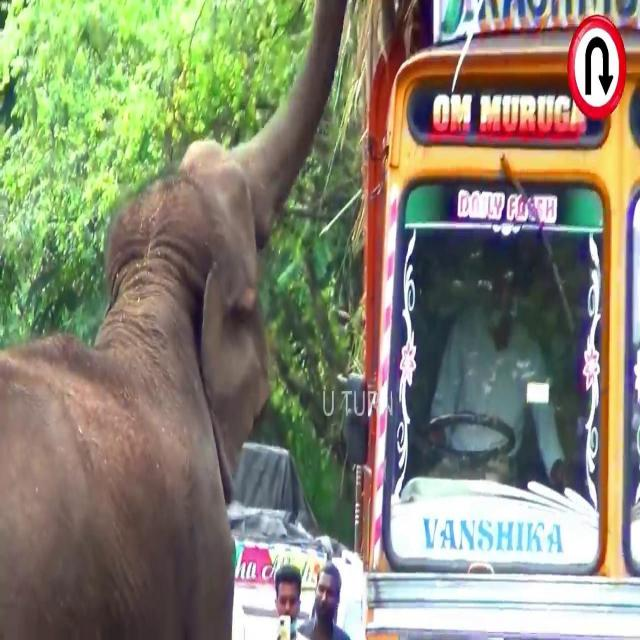Elephant: (2, 3, 346, 630)
